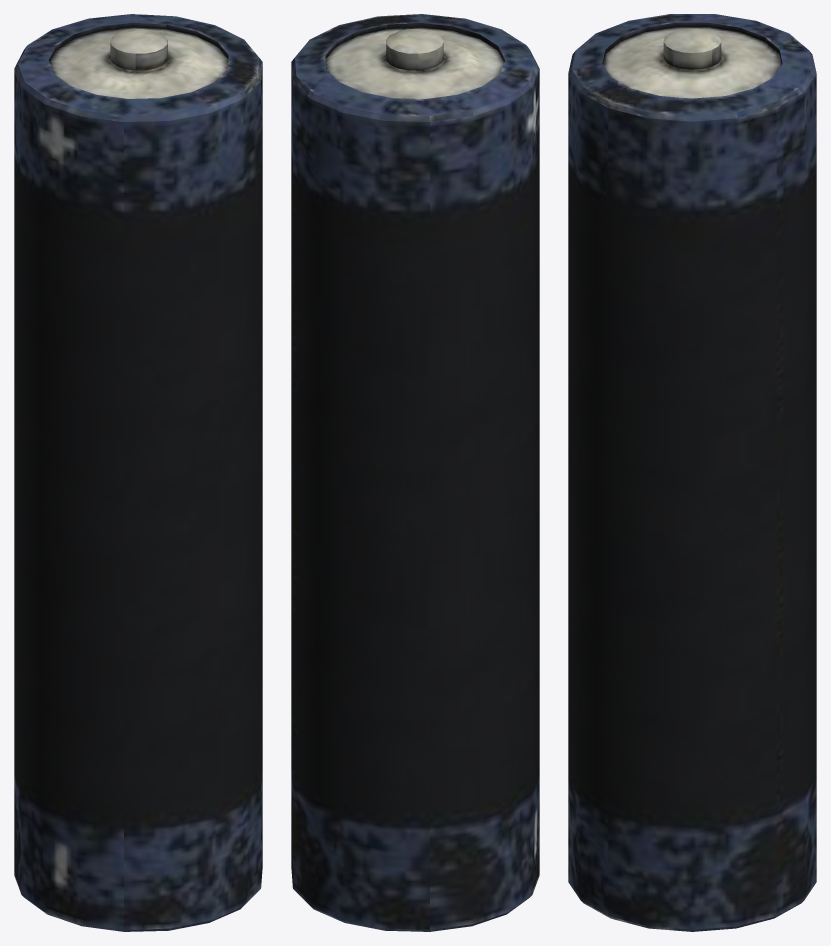
Rendered from battery.glb.
3 renders of one model, left to right at view 1: azimuth 30°, elevation 25°; view 2: azimuth 150°, elevation 25°; view 3: azimuth 270°, elevation 25°, orthographic.
Visible parts, largest first — view 1: Cylinder001; view 2: Cylinder001; view 3: Cylinder001.
Boxes of the visible parts, x1,y1,x2,y2 form: Cylinder001: (14,14,262,931); Cylinder001: (291,14,539,931); Cylinder001: (568,14,816,931).
Bounding box in the file's own units: 0.5297 × 2 × 0.532.
Materials: 1 (1 with a texture image).
